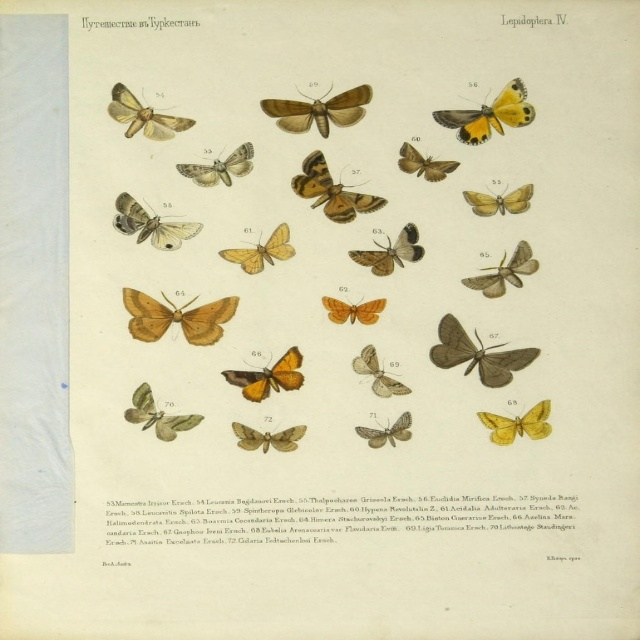Butterfly: (283, 147, 393, 226), (424, 315, 540, 389), (433, 74, 536, 147), (125, 286, 240, 348), (254, 81, 373, 136), (99, 80, 196, 143), (116, 382, 203, 445), (117, 190, 200, 250), (174, 134, 258, 188), (224, 343, 303, 400), (458, 242, 538, 298), (349, 221, 425, 278), (220, 218, 292, 275), (471, 400, 555, 443), (349, 344, 411, 397), (232, 416, 305, 456), (398, 137, 461, 182), (456, 184, 532, 219), (351, 412, 415, 452), (318, 295, 385, 326)
